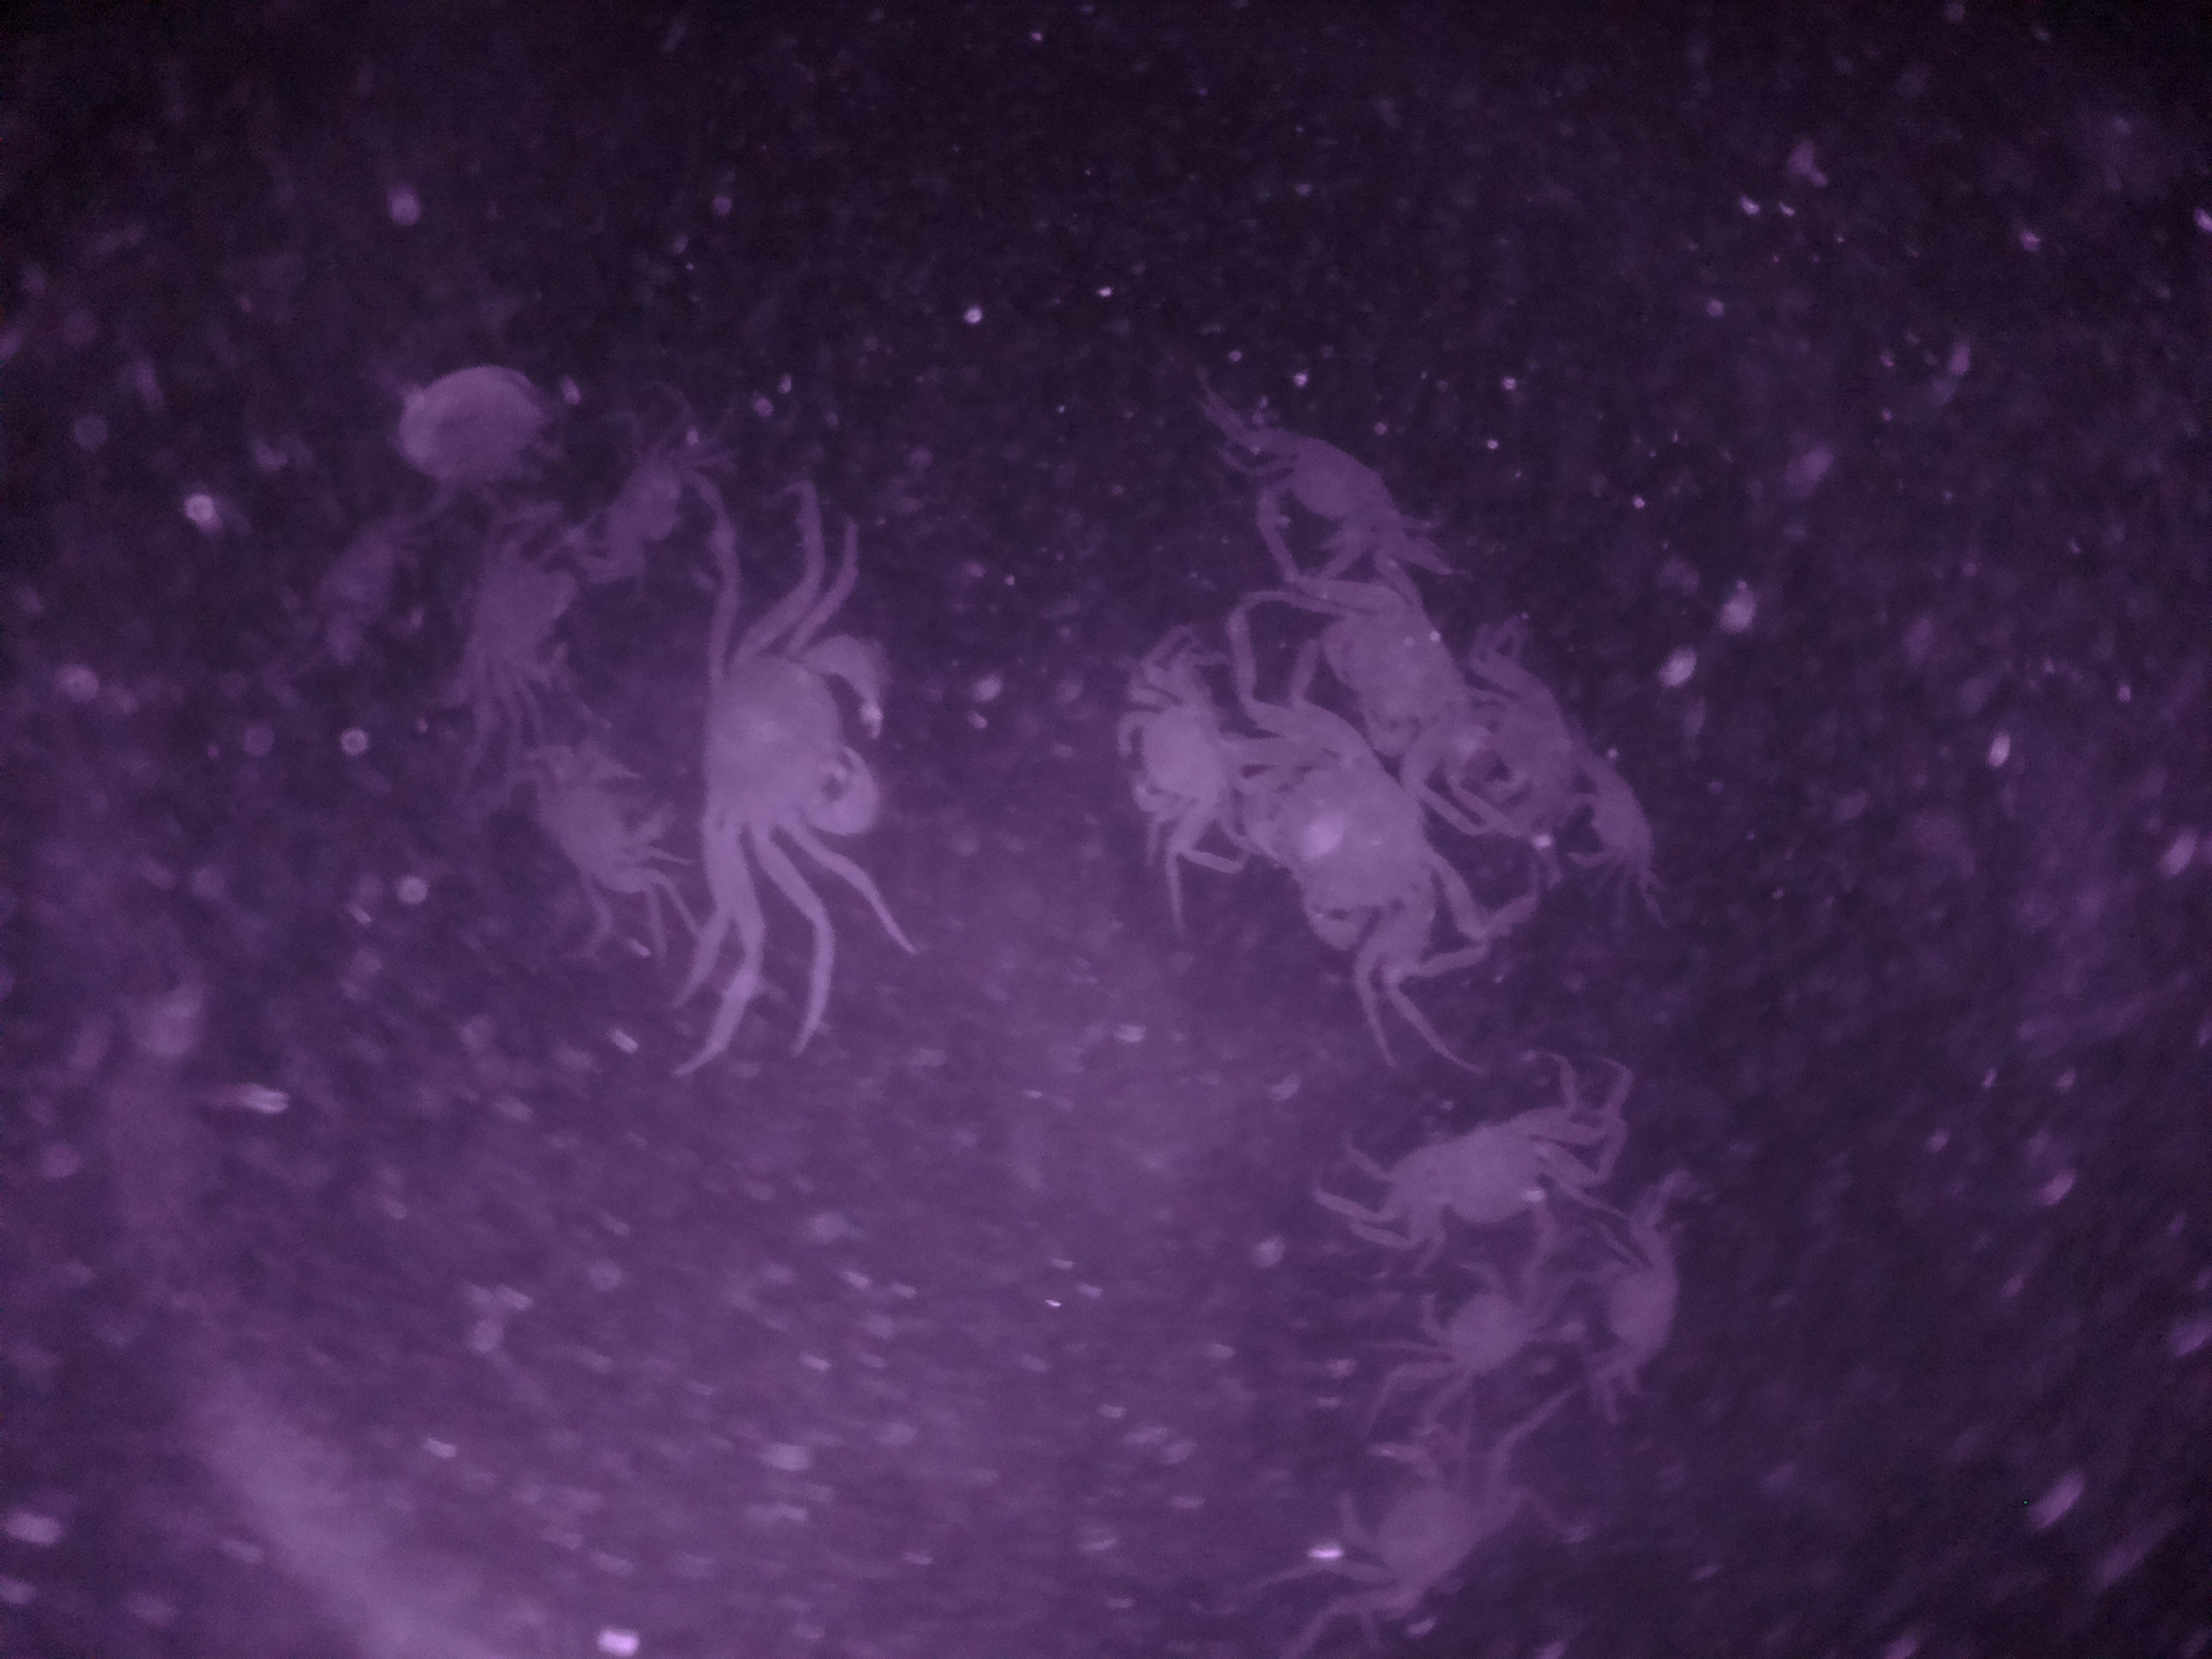Crab: (678, 592, 909, 870), (1247, 685, 1447, 971), (1346, 1086, 1615, 1248), (1320, 1419, 1503, 1626), (509, 714, 676, 931), (1245, 404, 1407, 580), (1103, 652, 1238, 859), (1397, 1239, 1564, 1392), (1559, 751, 1677, 890)
